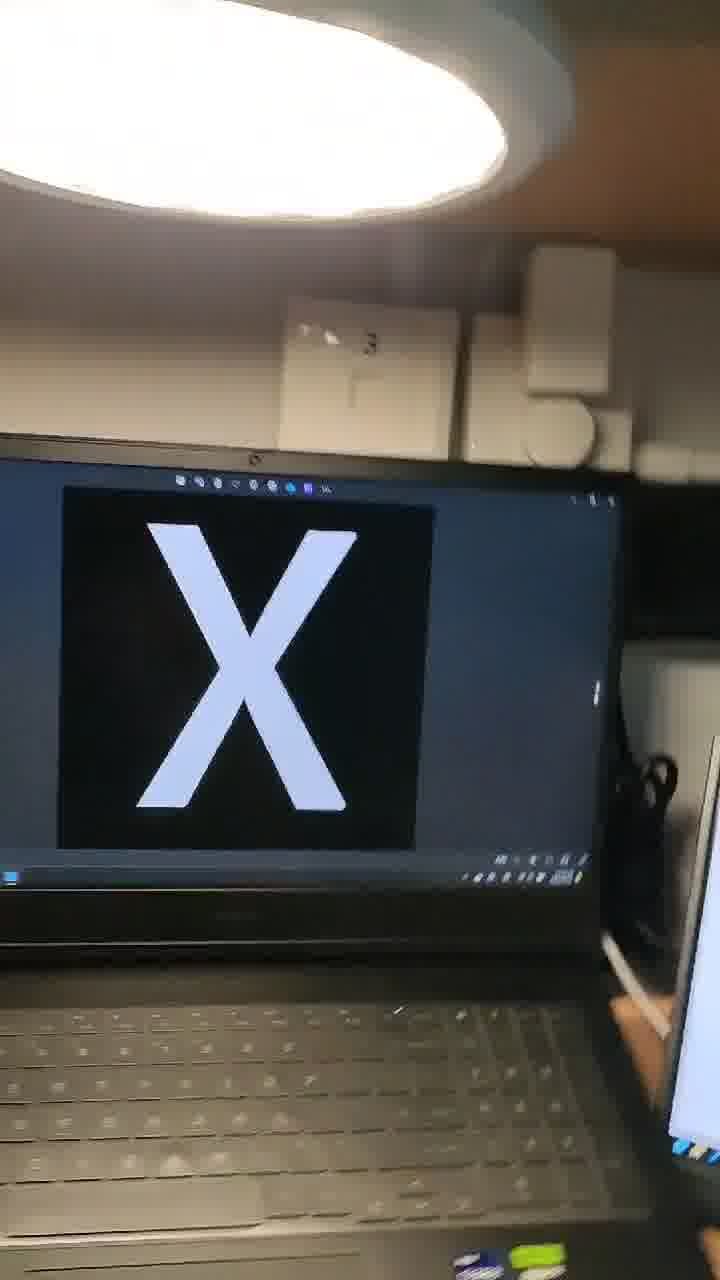X: (110, 476, 433, 889)
